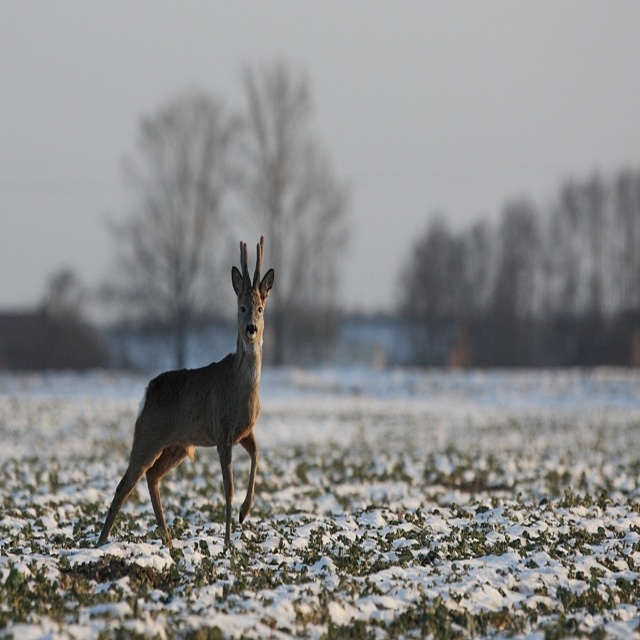Deer: (95, 235, 274, 547)
